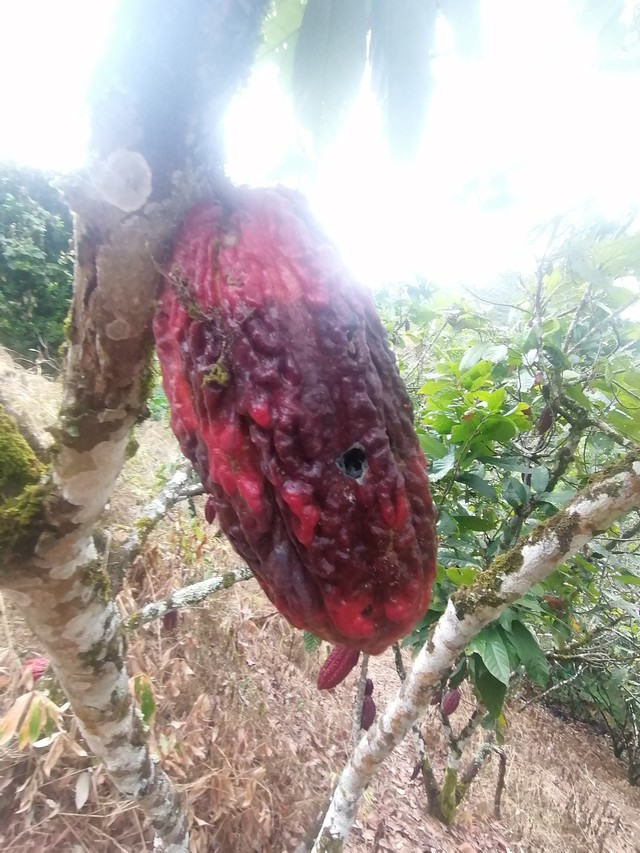carmenta foraseminis: (146, 178, 443, 659)
